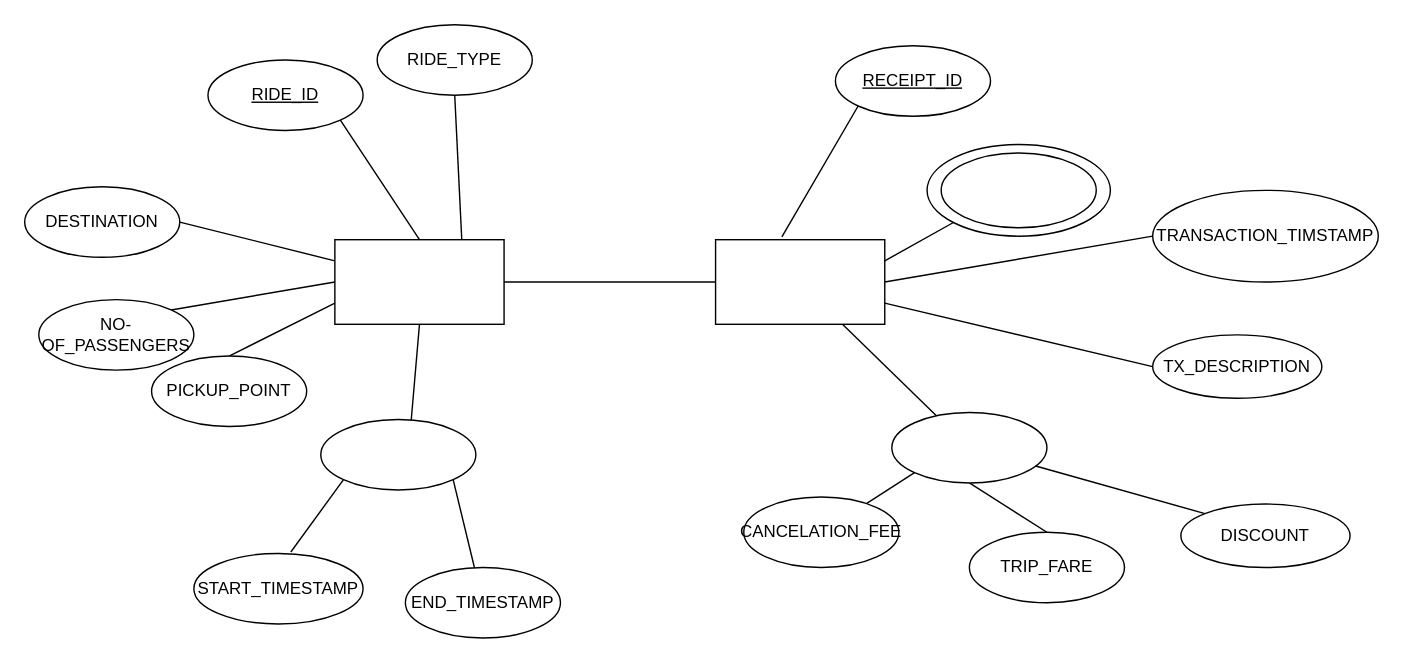
Image size: 1403x663. Some labels were removed from this diagram. The shapes that lost their labels are listed below. From the top down, each one's centre as x and y in pixels, then its label:
At (x=1018, y=190): "PAYMENT_MODE".
At (x=418, y=281): "RIDE_INFO".
At (x=799, y=281): "RIDE_RECEIPT".
At (x=397, y=454): "RIDE_DURATION".
At (x=968, y=447): "TOTAL_FARE".
